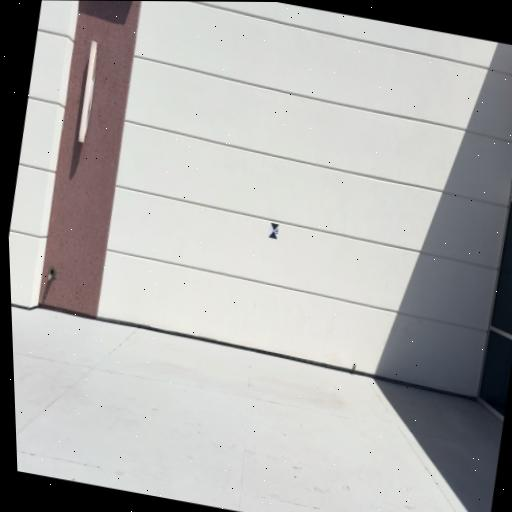target4: (267, 221, 280, 239)
